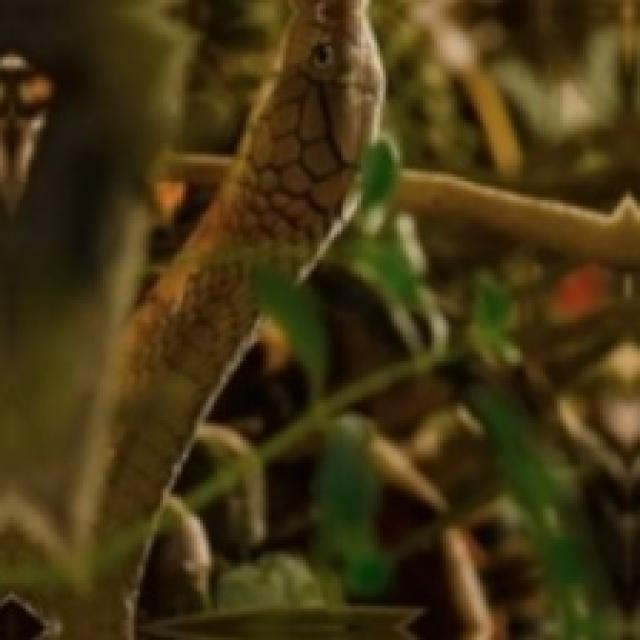king cobra: (0, 0, 380, 637)
